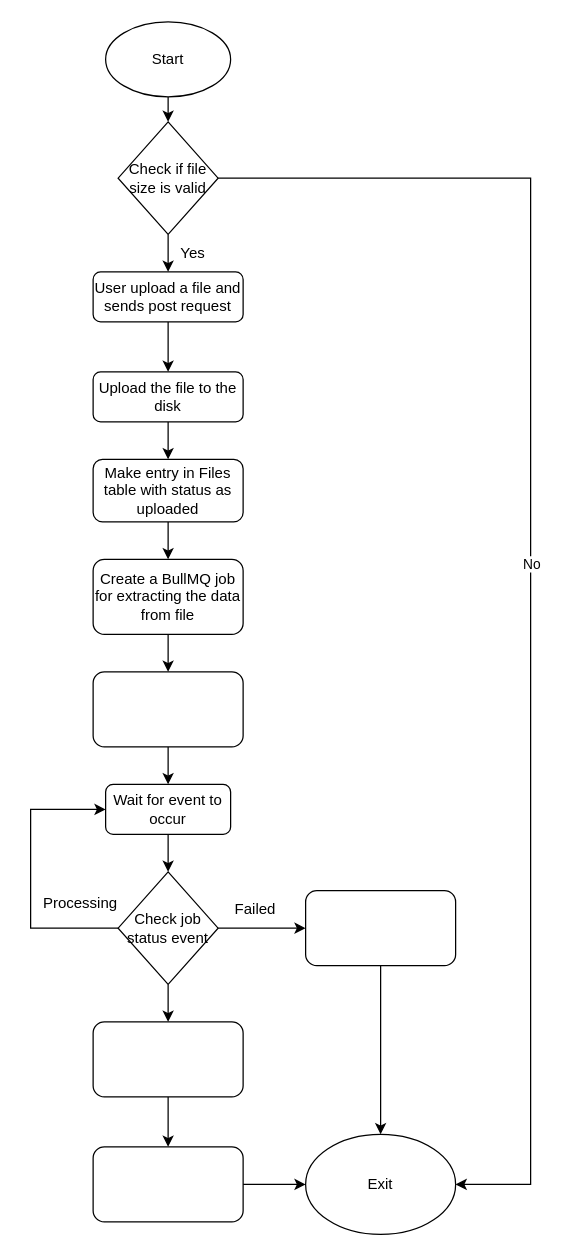
Some shapes in this 563 by 1256 pixel diagram are drawn without their labels. The shapes that lost their labels are listed below. From the top down, each one's centre as x and y in pixels, then its label:
At (167,709): "Create(if not exist entry in table) or update status in jobs table".
At (380,927): "Update job status to failed and file status to failed".
At (167,1059): "Update job status to completed".
At (167,1184): "Update extracted data, file status to processed to files table".
